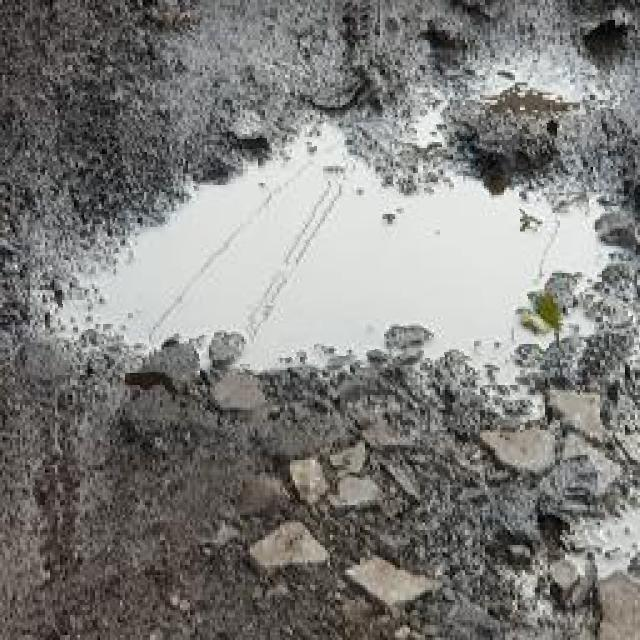puddle: (51, 114, 638, 371)
